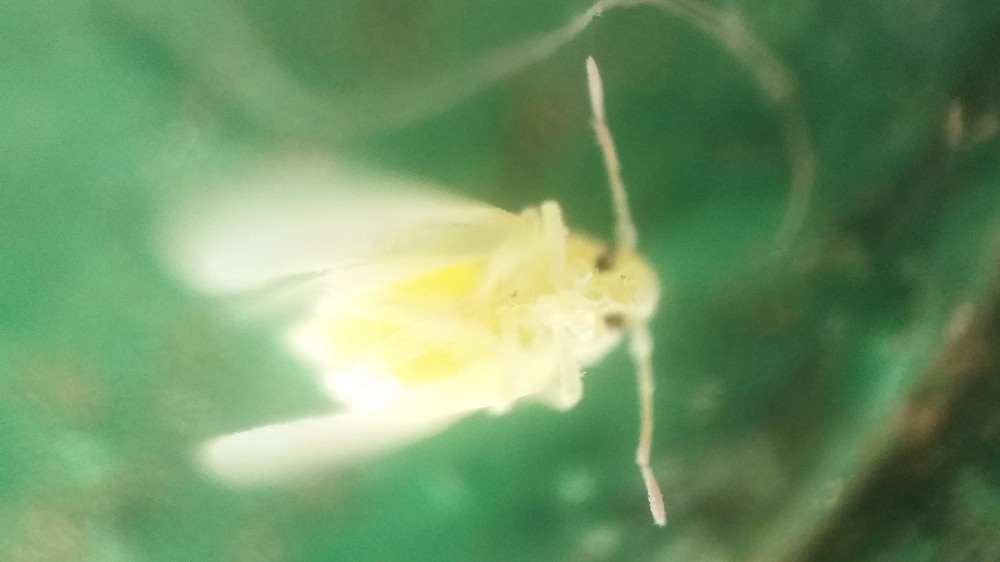Mosca Blanca: (151, 50, 690, 528)
